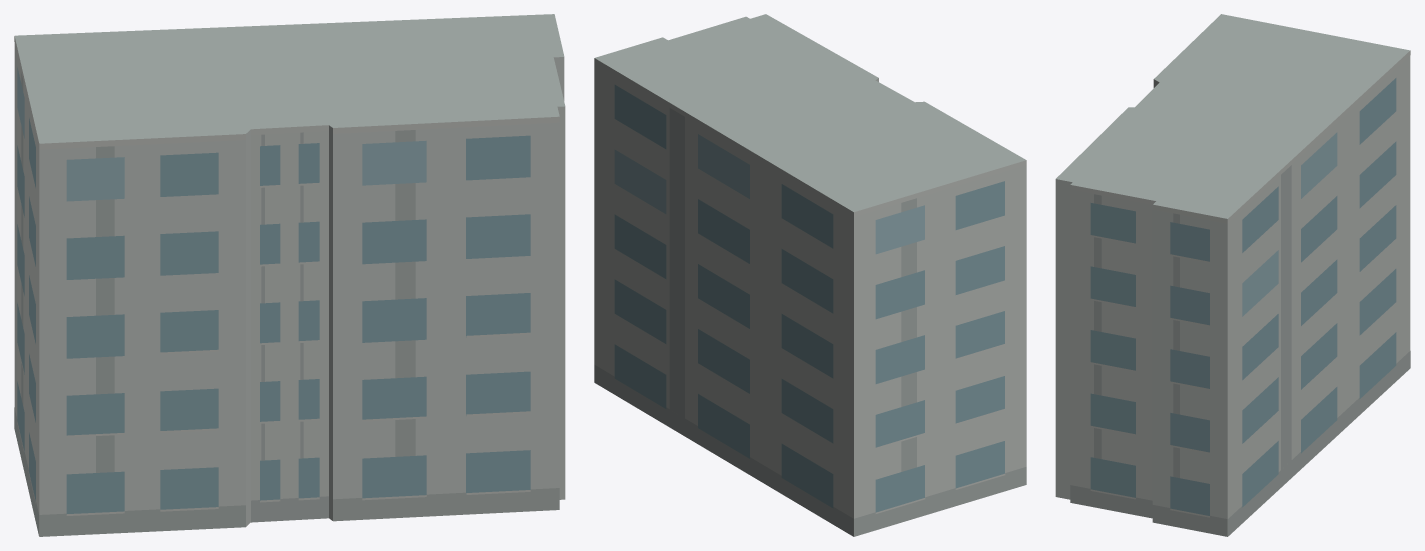
Rendered from survey-upis-32757227.glb.
The picture shows the model from 3 angles, left to right: view 1: azimuth 30°, elevation 25°; view 2: azimuth 150°, elevation 25°; view 3: azimuth 270°, elevation 25°; orthographic projection. The views are drawn at different scales.
Parts seen in each view (by area): view 1: survey-upis-32757227.tmp; view 2: survey-upis-32757227.tmp; view 3: survey-upis-32757227.tmp.
Boxes of the visible parts, x1,y1,x2,y2 form: survey-upis-32757227.tmp: [14, 14, 565, 536]; survey-upis-32757227.tmp: [594, 14, 1026, 536]; survey-upis-32757227.tmp: [1055, 14, 1410, 536].
Size of the model in its own units: 22.13 by 16 by 16.19.
